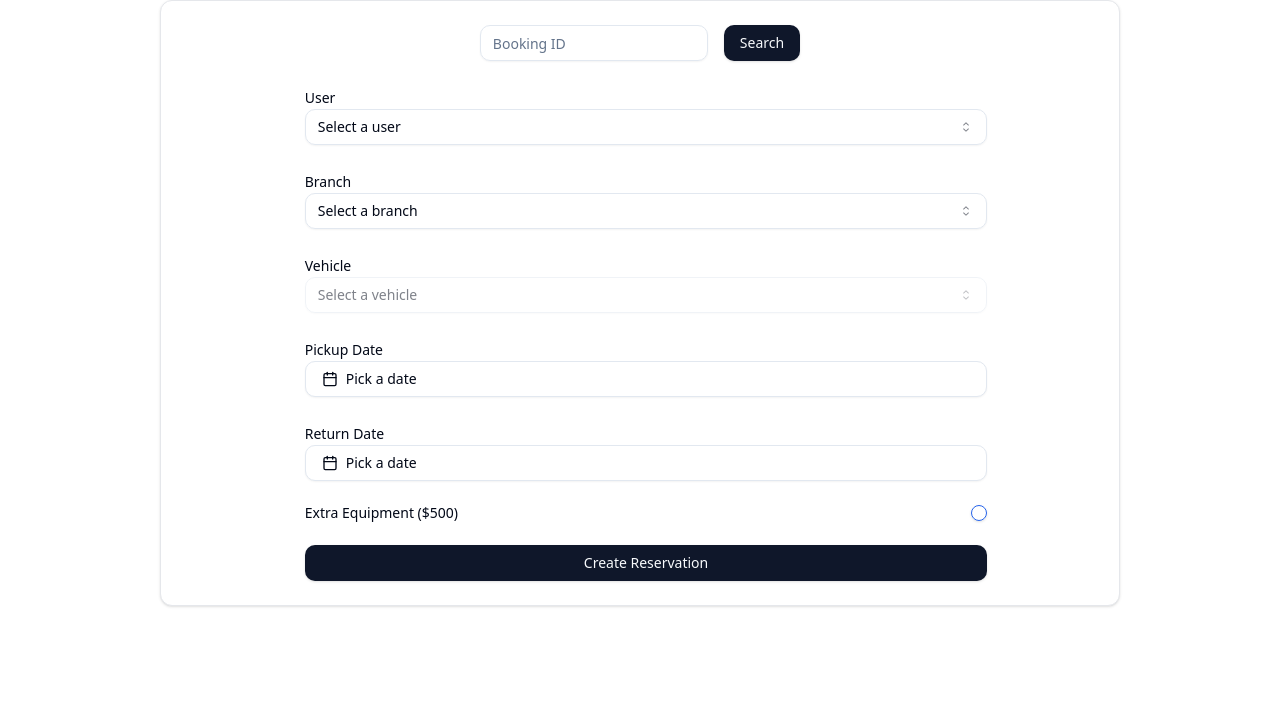
Test: SearchReservation › displays validation errors
The image size is (1280, 720).
Click the button "Create Reservation".
click(646, 563)  # box [305, 545, 987, 581]
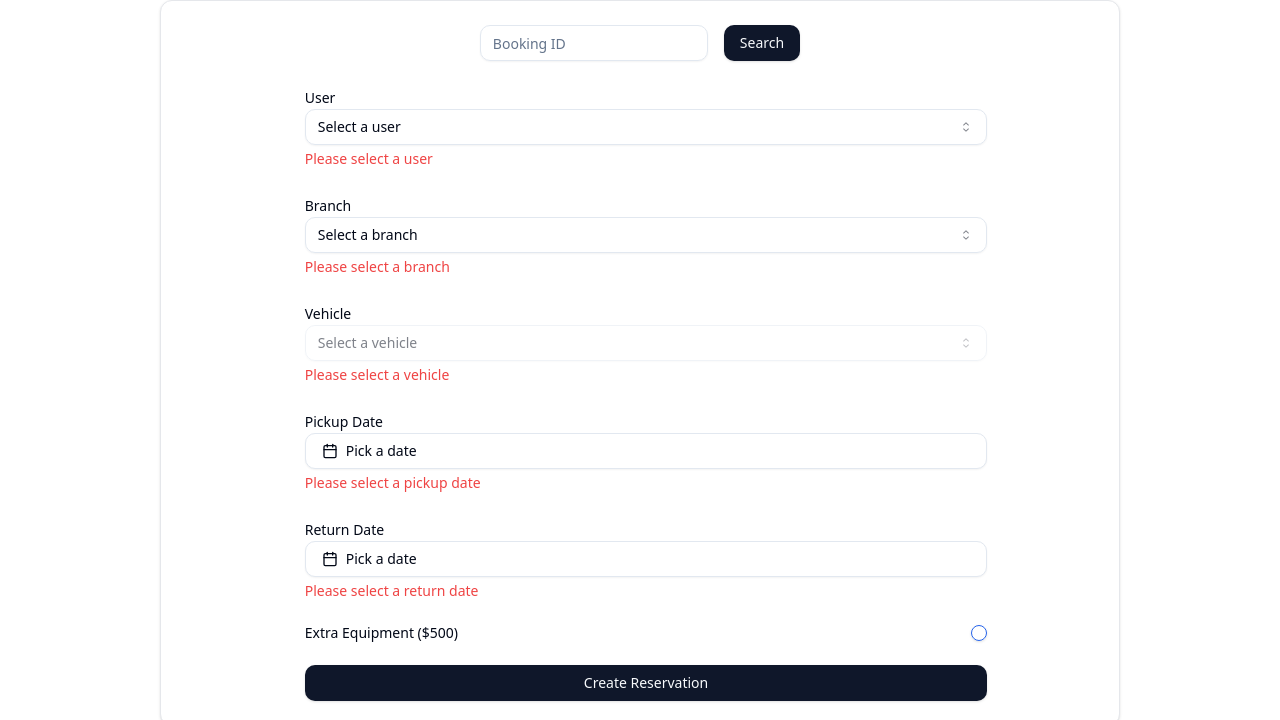
Check: the text "Please select a user" is shown, box [305, 149, 433, 168]
Check: the text "Please select a branch" is shown, box [305, 257, 450, 276]
Check: the text "Please select a vehicle" is shown, box [305, 365, 449, 384]
